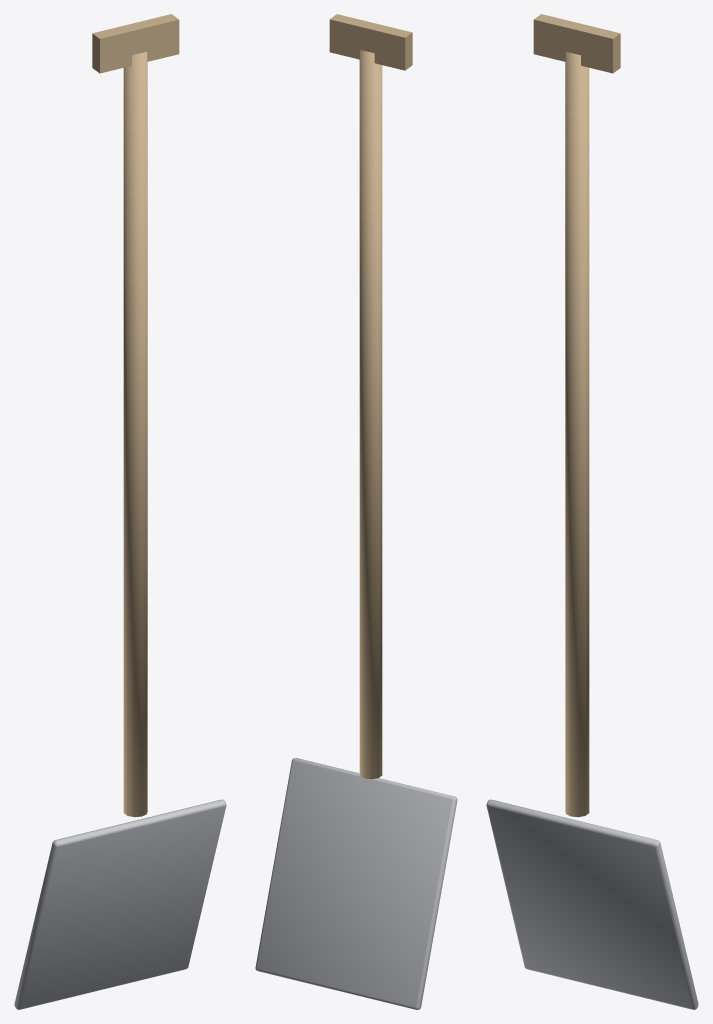
The model's file is tool_shovel.glb.
3 views of the same model, side by side, from view 1: azimuth 30°, elevation 25°; view 2: azimuth 150°, elevation 25°; view 3: azimuth 330°, elevation 25° (orthographic). The views are drawn at different scales.
Parts seen in each view (by area): view 1: Cube.001, Cylinder, Cube; view 2: Cube.001, Cylinder, Cube; view 3: Cube.001, Cylinder, Cube.
Boxes of the visible parts, left/top/right/bottom form: Cube.001: left=14, top=799, right=226, bottom=1009; Cylinder: left=123, top=51, right=147, bottom=817; Cube: left=92, top=14, right=179, bottom=73; Cube.001: left=255, top=758, right=457, bottom=1009; Cylinder: left=359, top=50, right=382, bottom=779; Cube: left=329, top=14, right=412, bottom=70; Cube.001: left=486, top=799, right=698, bottom=1009; Cylinder: left=565, top=51, right=589, bottom=817; Cube: left=533, top=14, right=620, bottom=73.
Size of the model in its own units: 0.26 by 1.43 by 0.1117.
